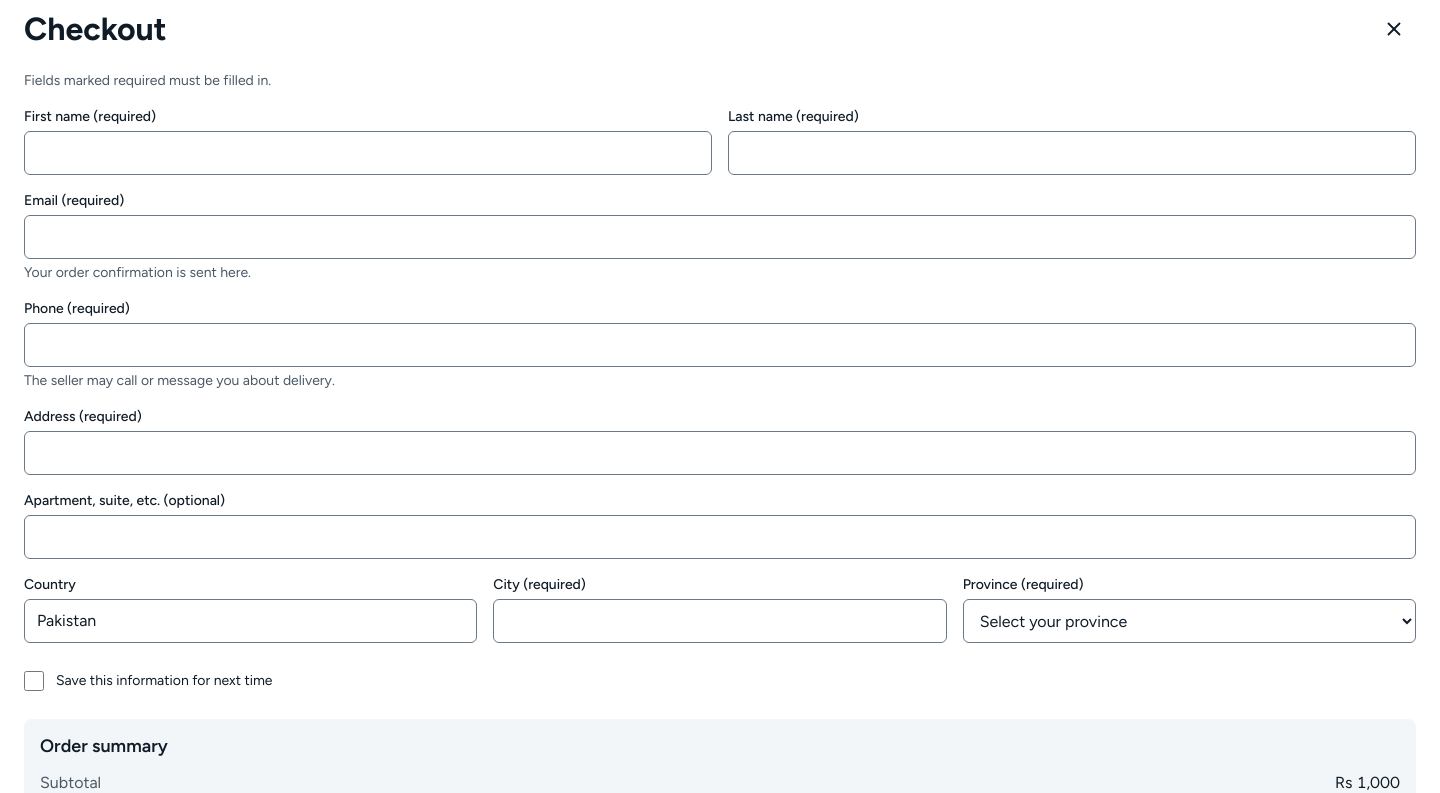
Scenario: CheckoutForm › adds the selected province delivery fee to the order total
Select "Sindh (delivery Rs 220)" in the dropdown labelled "Province (required)" at x=1189, y=621, box [963, 599, 1416, 643]
(page scrolled)
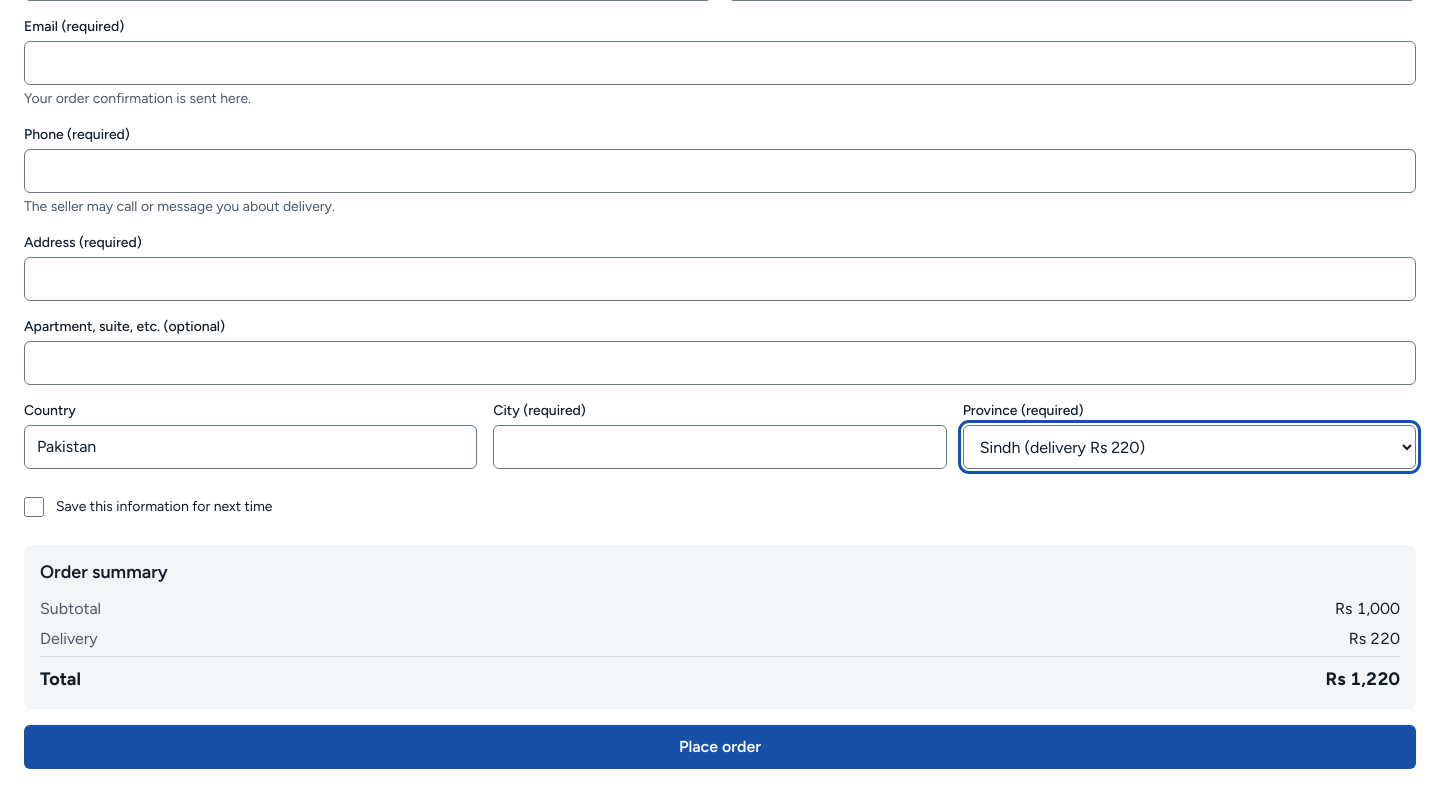
Expected: the text "Rs 220" is shown, [1349, 626, 1400, 652]
Expected: the text "Rs 1,220" is shown, [1326, 665, 1400, 693]
